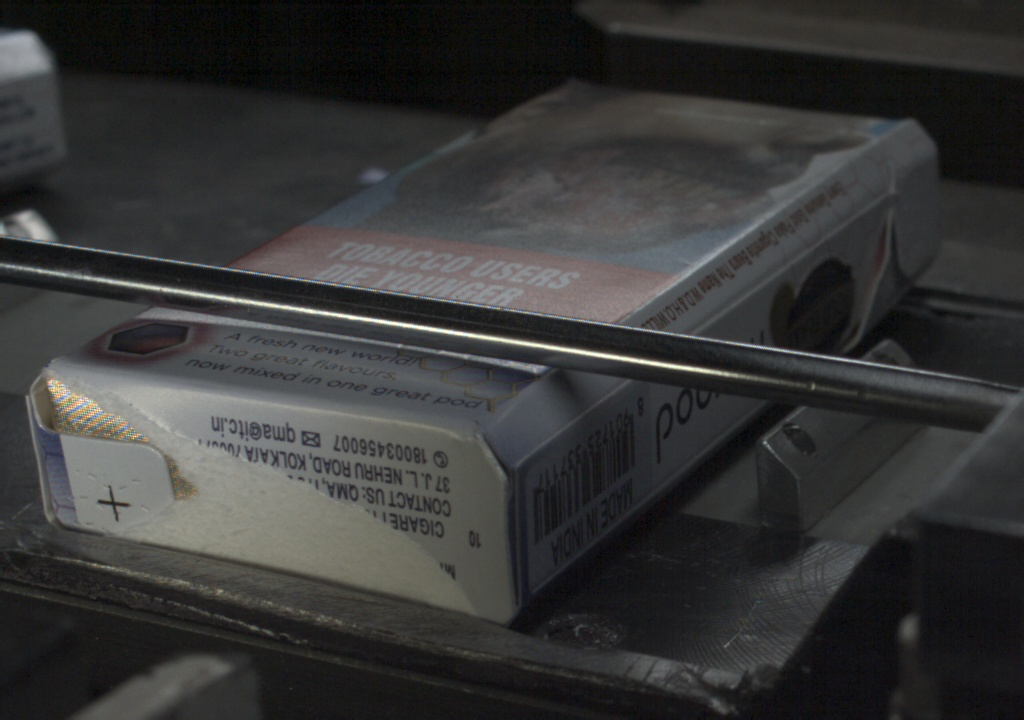g_lmiter: (694, 257, 792, 329), (794, 187, 888, 256), (513, 423, 571, 469), (571, 381, 629, 423)
ng_bottom: (25, 376, 173, 537), (162, 452, 377, 562), (363, 504, 474, 605)
ng_miter: (885, 150, 946, 282)
